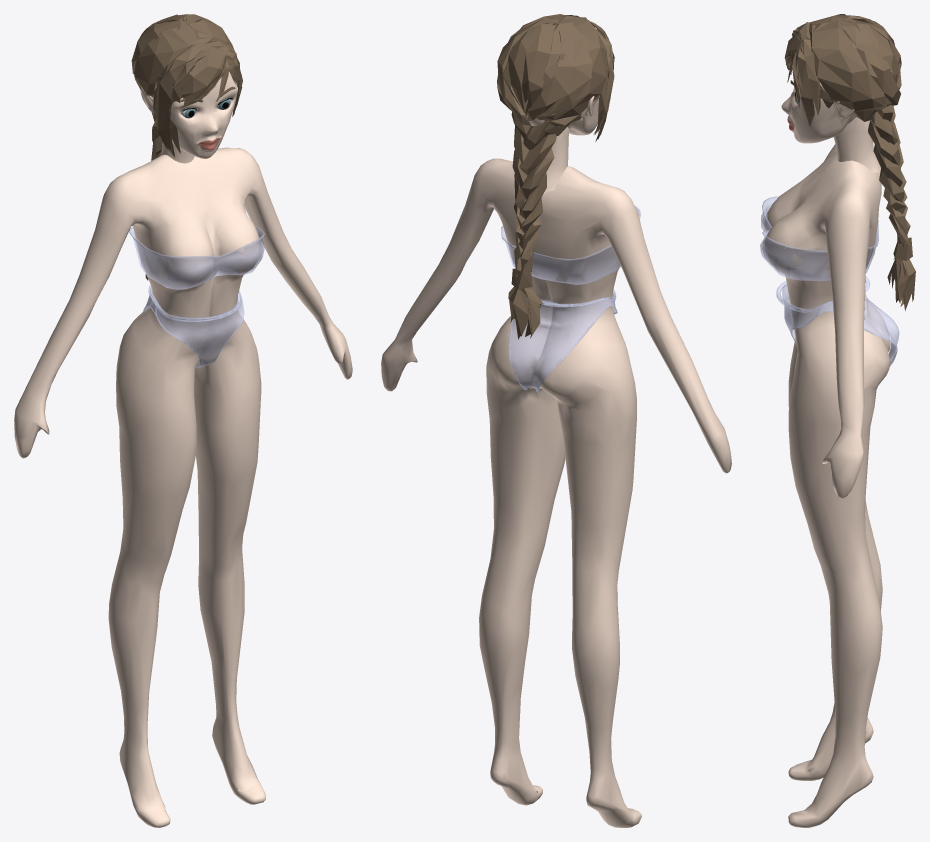
The model's file is 1105_mavi.fbx.
3 renders of one model, left to right at view 1: azimuth 30°, elevation 25°; view 2: azimuth 150°, elevation 25°; view 3: azimuth 270°, elevation 25°, orthographic. The views are drawn at different scales.
Parts seen in each view (by area): view 1: Cube.003; view 2: Cube.003; view 3: Cube.003.
Boxes of the visible parts, bbox=[...] form: Cube.003: bbox=[14, 14, 352, 827]; Cube.003: bbox=[381, 14, 731, 827]; Cube.003: bbox=[760, 14, 915, 827].
Bounding box in the file's own units: 2105 × 4704 × 848.
